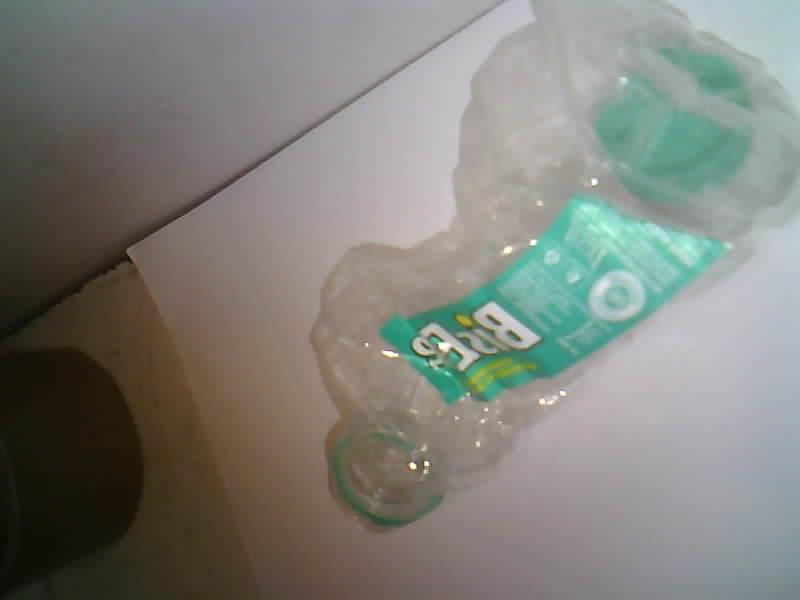non-biodegradable: (312, 0, 799, 525)
